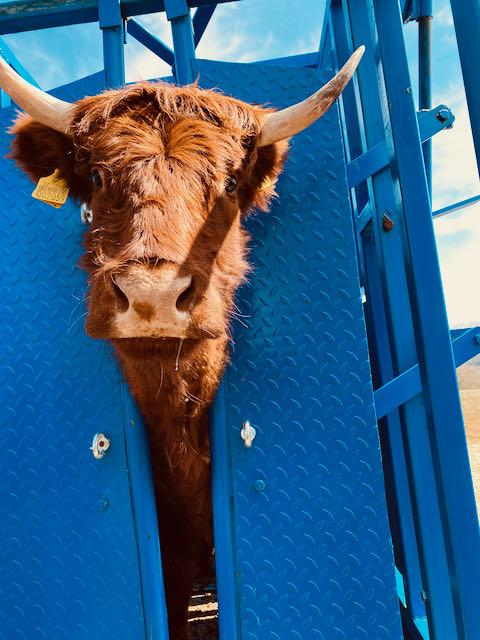muzzles: (83, 261, 221, 350)
